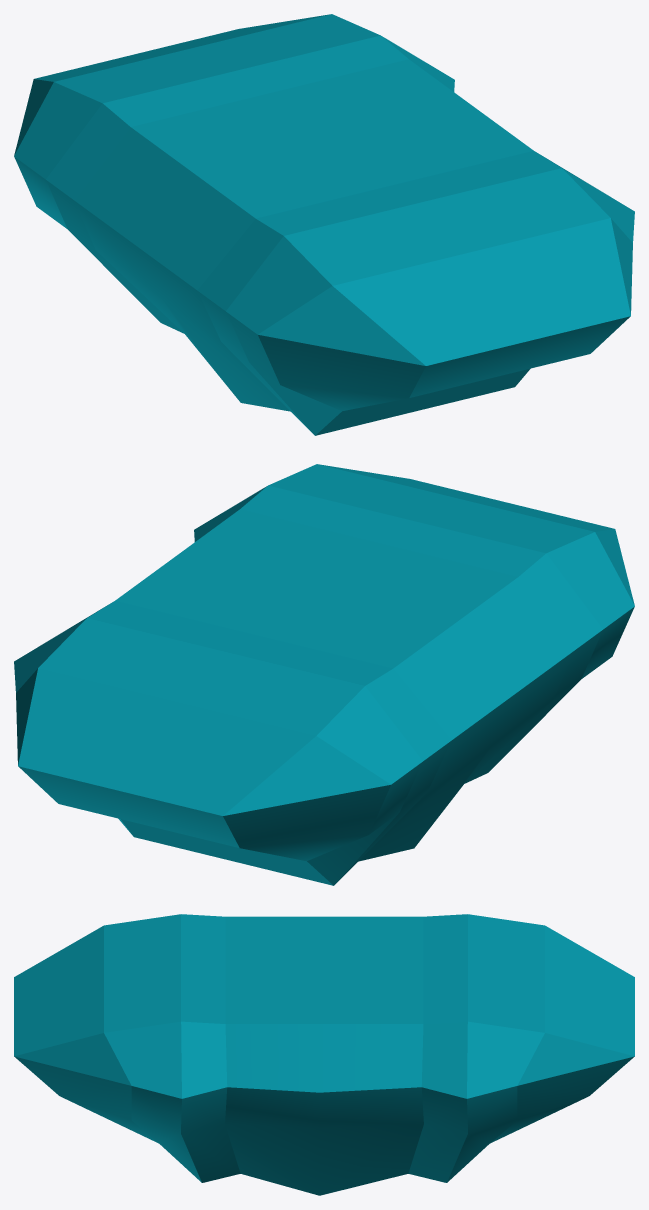
The model's file is Crystal platform_test.fbx.
The picture shows the model from 3 angles, top to bottom: view 1: azimuth 30°, elevation 25°; view 2: azimuth 150°, elevation 25°; view 3: azimuth 270°, elevation 25°; orthographic projection. The views are drawn at different scales.
Visible parts, largest first — view 1: pCube3; view 2: pCube3; view 3: pCube3.
Boxes of the visible parts, bbox=[...] form: pCube3: bbox=[14, 14, 634, 435]; pCube3: bbox=[14, 464, 634, 885]; pCube3: bbox=[14, 914, 634, 1195].
Size of the model in its own units: 1.47 by 0.8308 by 2.44.
